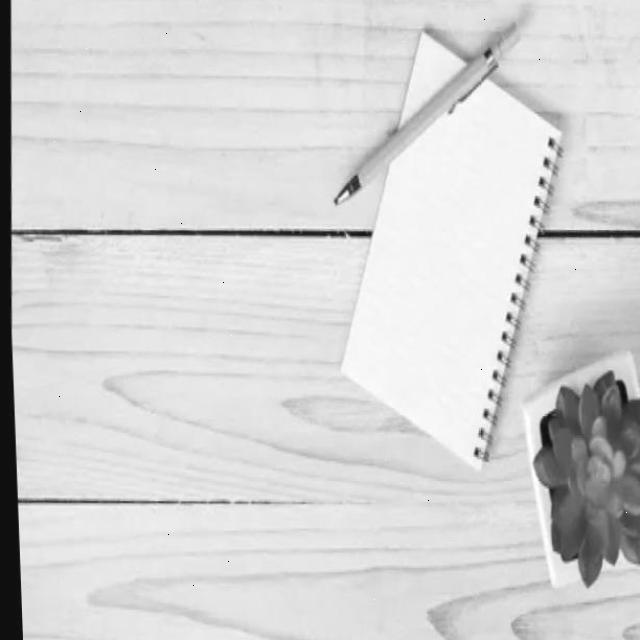pencil: (325, 18, 529, 207)
